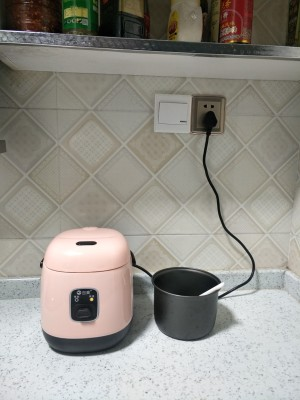switch: (155, 97, 190, 128)
